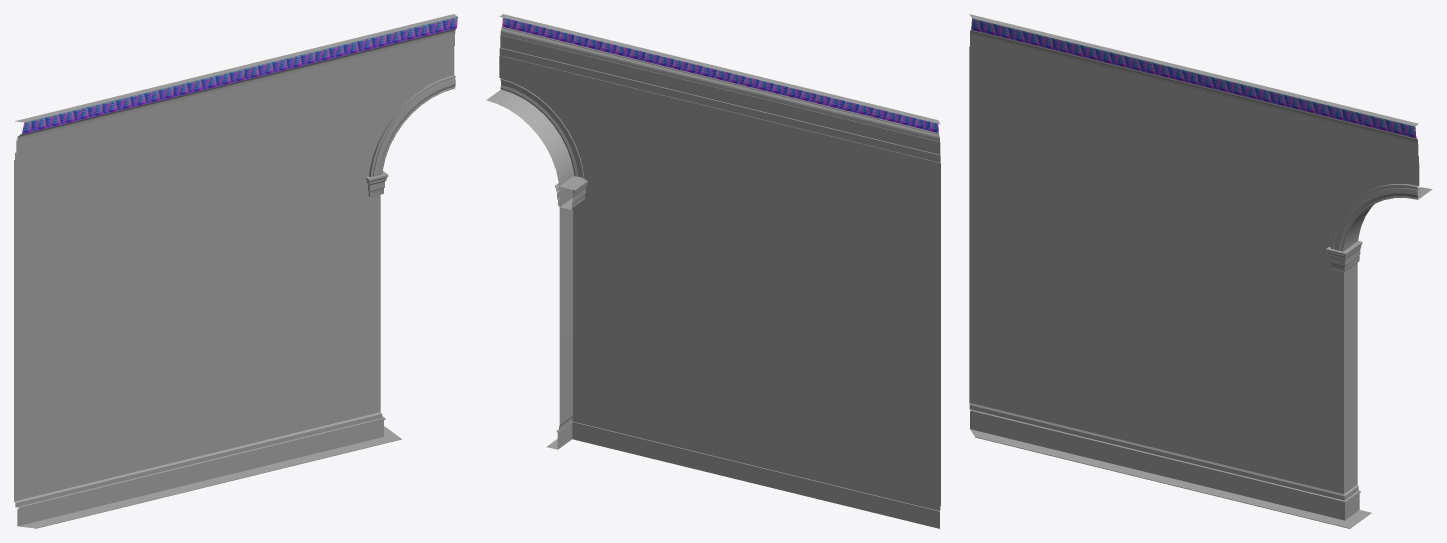
The model's file is Wide Wall Door.fbx.
3 renders of one model, left to right at view 1: azimuth 30°, elevation 25°; view 2: azimuth 150°, elevation 25°; view 3: azimuth 330°, elevation 25°, orthographic. The views are drawn at different scales.
Parts seen in each view (by area): view 1: Wide_Wall_Door, Red_Marble, Deco_Trim; view 2: Wide_Wall_Door, Red_Marble, Deco_Trim; view 3: Wide_Wall_Door, Red_Marble, Deco_Trim.
Part boxes in pixels (left/top/right/bottom): Wide_Wall_Door: left=14, top=14, right=457, bottom=501; Red_Marble: left=14, top=412, right=401, bottom=528; Deco_Trim: left=22, top=17, right=457, bottom=134; Wide_Wall_Door: left=486, top=14, right=940, bottom=505; Red_Marble: left=546, top=416, right=940, bottom=528; Deco_Trim: left=502, top=17, right=938, bottom=132; Wide_Wall_Door: left=969, top=14, right=1432, bottom=493; Red_Marble: left=969, top=402, right=1371, bottom=528; Deco_Trim: left=971, top=18, right=1416, bottom=137.
Size of the model in its own units: 881 by 775 by 73.
